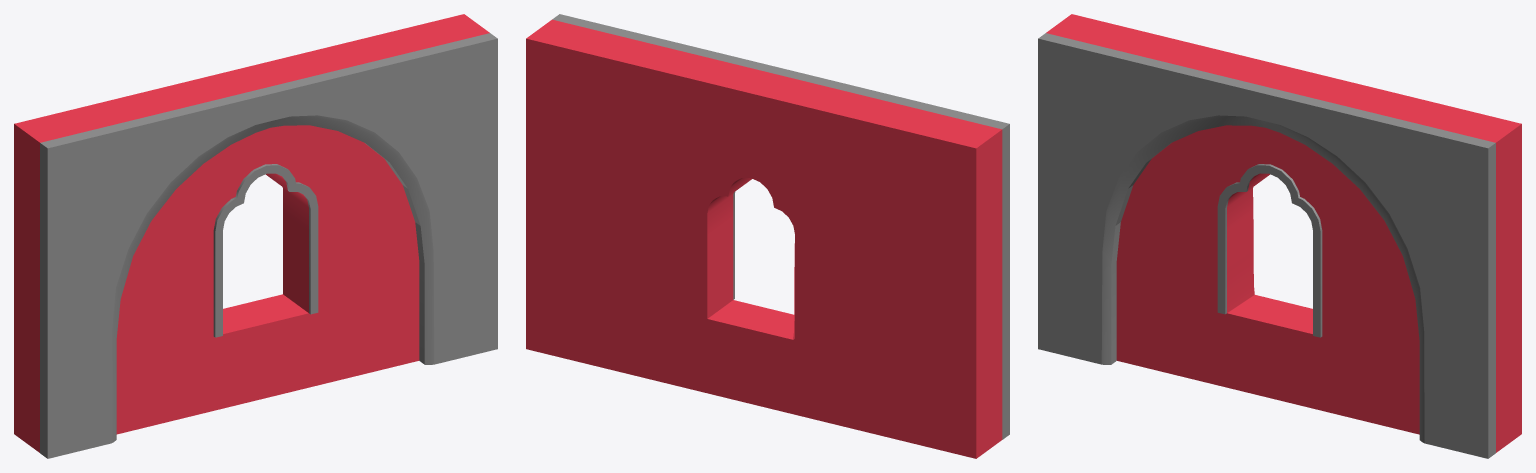
Rendered from doorway_Large_LO.fbx.
The picture shows the model from 3 angles, left to right: view 1: azimuth 30°, elevation 25°; view 2: azimuth 150°, elevation 25°; view 3: azimuth 330°, elevation 25°; orthographic projection.
Visible parts, largest first — view 1: doorway_Large_LO; view 2: doorway_Large_LO; view 3: doorway_Large_LO.
Boxes of the visible parts, x1,y1,x2,y2 form: doorway_Large_LO: [14, 14, 497, 458]; doorway_Large_LO: [526, 14, 1009, 458]; doorway_Large_LO: [1038, 14, 1521, 458].
Size of the model in its own units: 1000 by 659 by 129.
